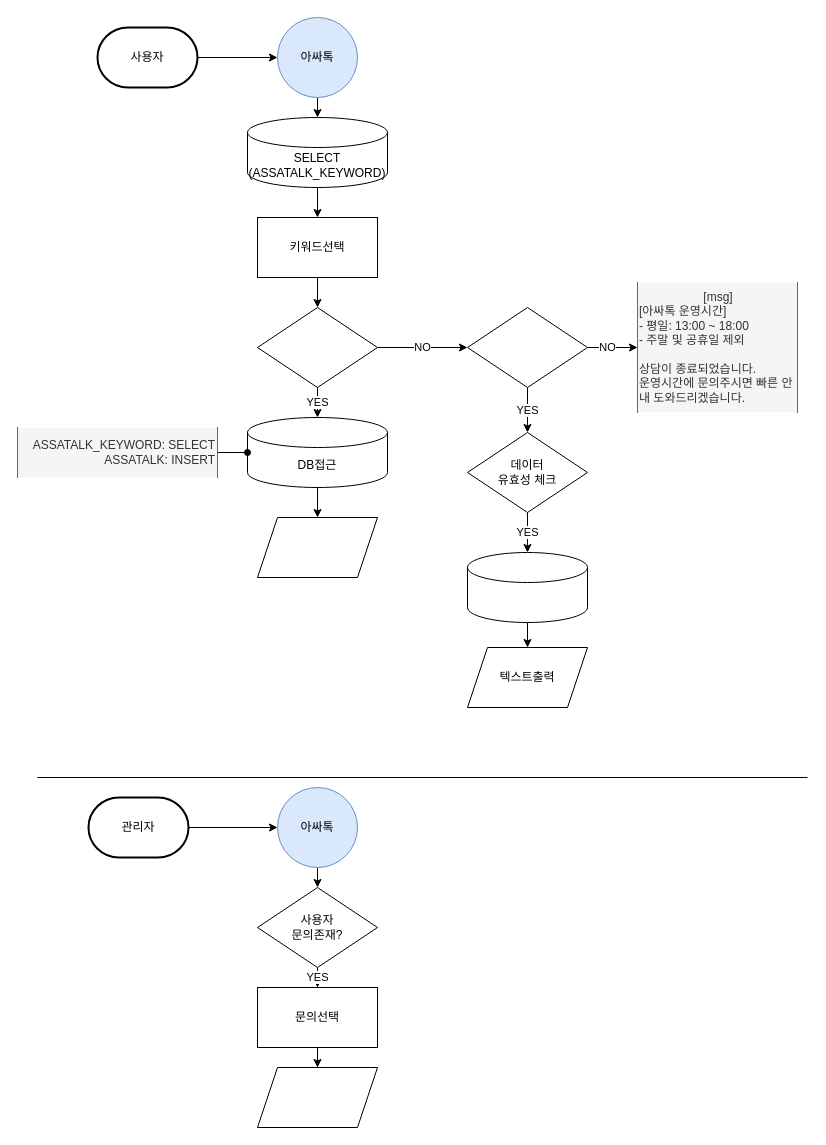
Some shapes in this 826 by 1145 pixel diagram are drawn without their labels. The shapes that lost their labels are listed below. From the top down, each one's centre as x and y in pixels, then its label:
At pixel 317 347: "텍스트아님".
At pixel 527 347: "시간 내 요청".
At pixel 317 547: "저장된 답변 출력".
At pixel 527 587: "INSERT (ASSATALK)".
At pixel 317 1097: "답변등록".
